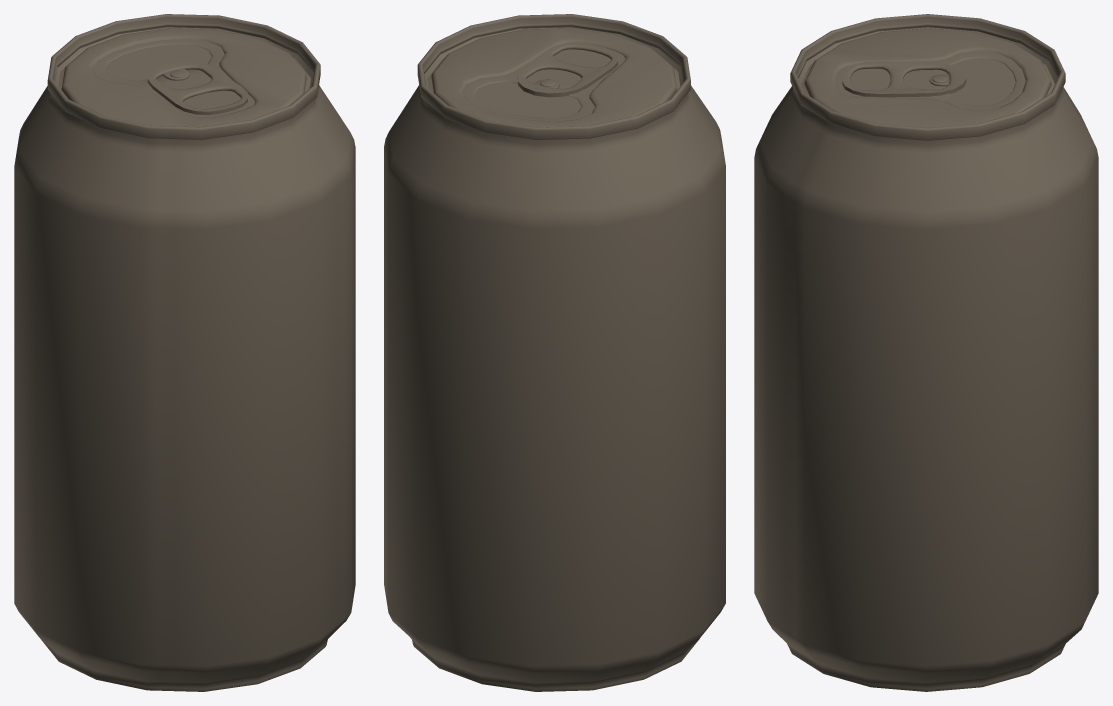
The model's file is can.fbx.
3 views of the same model, side by side, from view 1: azimuth 30°, elevation 25°; view 2: azimuth 150°, elevation 25°; view 3: azimuth 270°, elevation 25° (orthographic).
Parts seen in each view (by area): view 1: Object_2; view 2: Object_2; view 3: Object_2.
Boxes of the visible parts, x1,y1,x2,y2 form: Object_2: [14, 14, 355, 691]; Object_2: [384, 14, 725, 691]; Object_2: [754, 14, 1098, 691].
Size of the model in its own units: 181 by 326 by 181.
